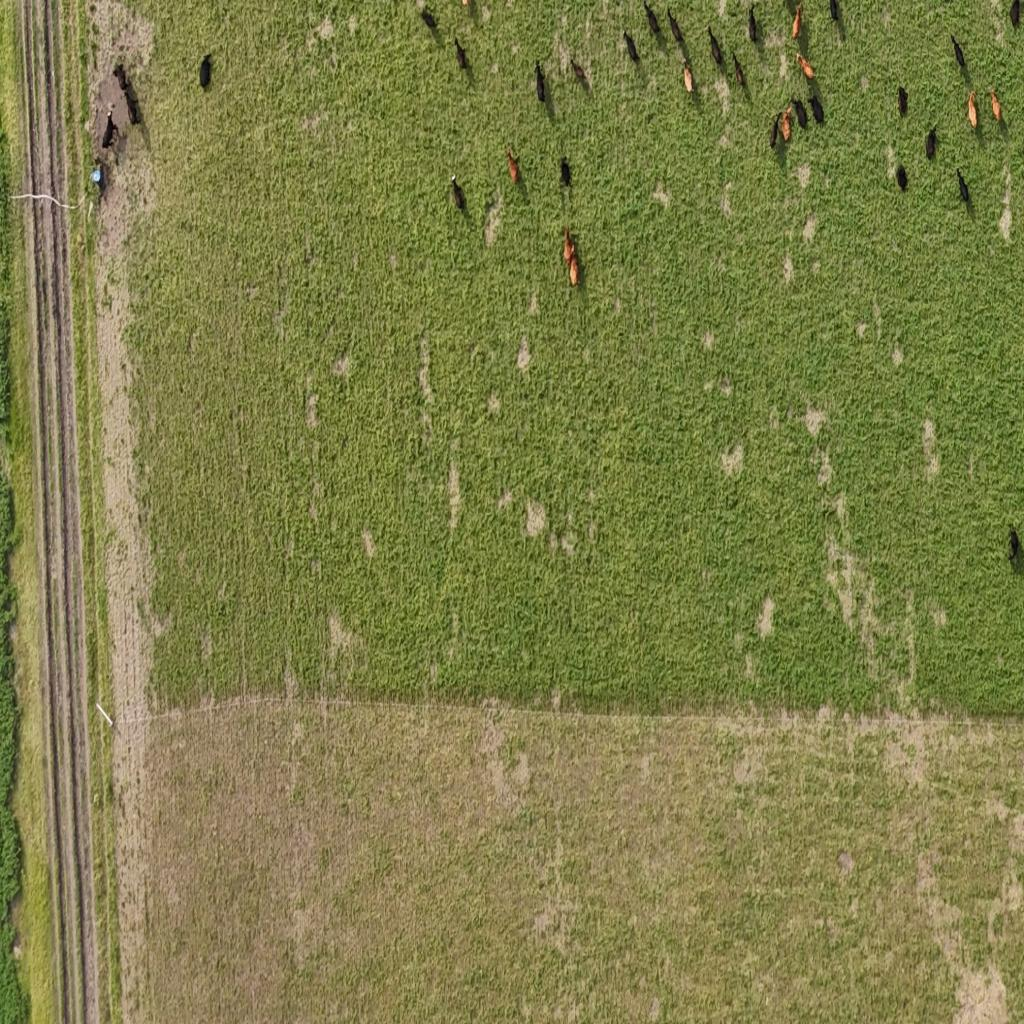cow: (449, 28, 475, 74), (894, 152, 916, 198), (127, 84, 147, 130), (505, 144, 523, 188), (92, 166, 106, 216), (101, 109, 118, 150), (644, 1, 662, 38), (668, 8, 685, 46), (957, 169, 972, 210), (450, 175, 466, 211), (570, 56, 588, 88), (623, 28, 639, 64), (708, 26, 722, 66), (796, 52, 814, 80), (198, 54, 212, 90), (952, 33, 966, 69), (732, 52, 746, 88), (809, 93, 824, 126), (779, 104, 791, 142), (113, 64, 128, 94), (793, 96, 807, 128), (563, 225, 574, 265), (1007, 528, 1020, 561), (568, 251, 580, 286), (536, 61, 546, 103), (967, 90, 978, 128), (792, 2, 803, 40), (990, 88, 1002, 121), (769, 113, 780, 149), (925, 127, 937, 160), (748, 4, 758, 42), (682, 59, 693, 93), (560, 156, 571, 188), (421, 8, 436, 29), (898, 86, 908, 116), (460, 0, 475, 18), (829, 0, 839, 25), (1018, 0, 1024, 30), (1021, 136, 1024, 163)
